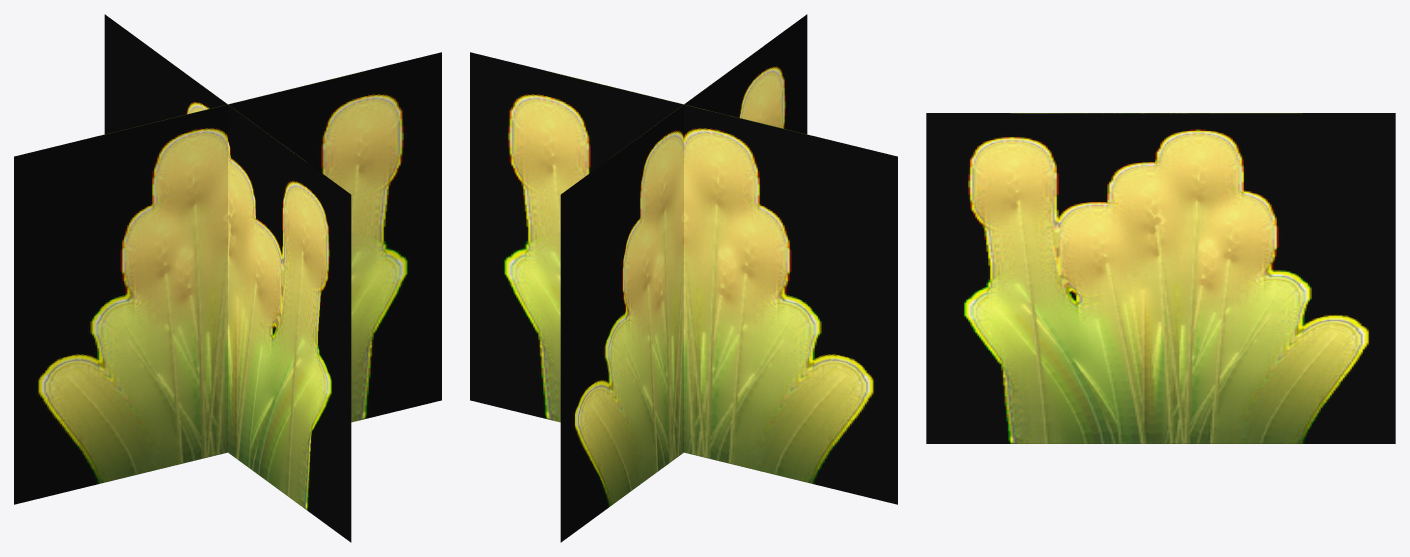
The model's file is tall_grass.glb.
3 views of the same model, side by side, from view 1: azimuth 30°, elevation 25°; view 2: azimuth 150°, elevation 25°; view 3: azimuth 270°, elevation 25° (orthographic). The views are drawn at different scales.
Parts seen in each view (by area): view 1: tall_grass_mesh; view 2: tall_grass_mesh; view 3: tall_grass_mesh.
Boxes of the visible parts, left/top/right/bottom form: tall_grass_mesh: left=14, top=14, right=441, bottom=542; tall_grass_mesh: left=470, top=14, right=897, bottom=542; tall_grass_mesh: left=926, top=113, right=1395, bottom=443.
Bounding box in the file's own units: 0.9 × 0.7 × 0.9.
1 material, 1 textured.
